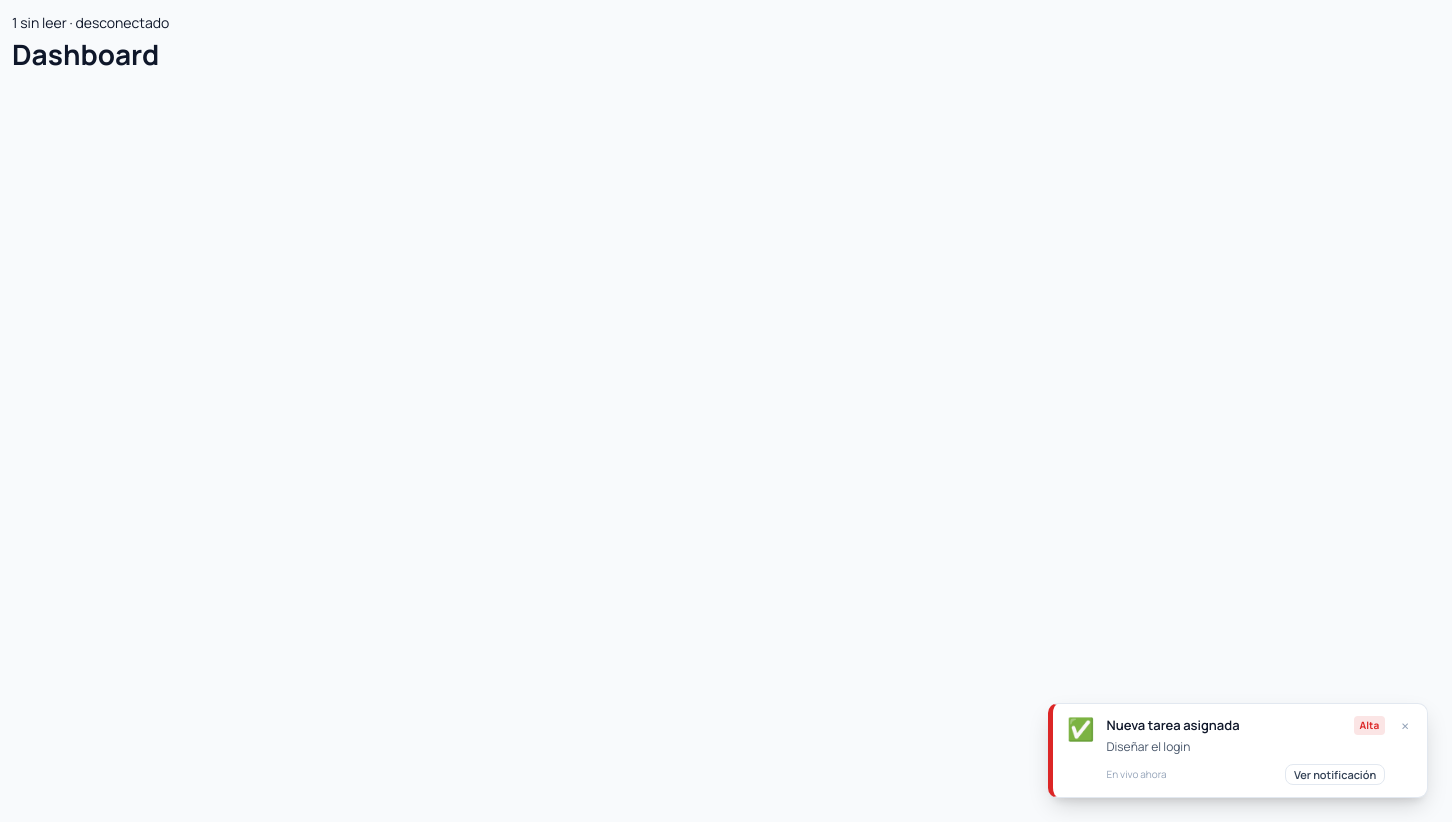
Test: notificaciones en tiempo real › should mark it as read and go to /notificaciones from "Ver notificación"
This screenshot has width=1452, height=822.
Click the button "Ver notificación": (1335, 774) [1285, 764, 1385, 785]
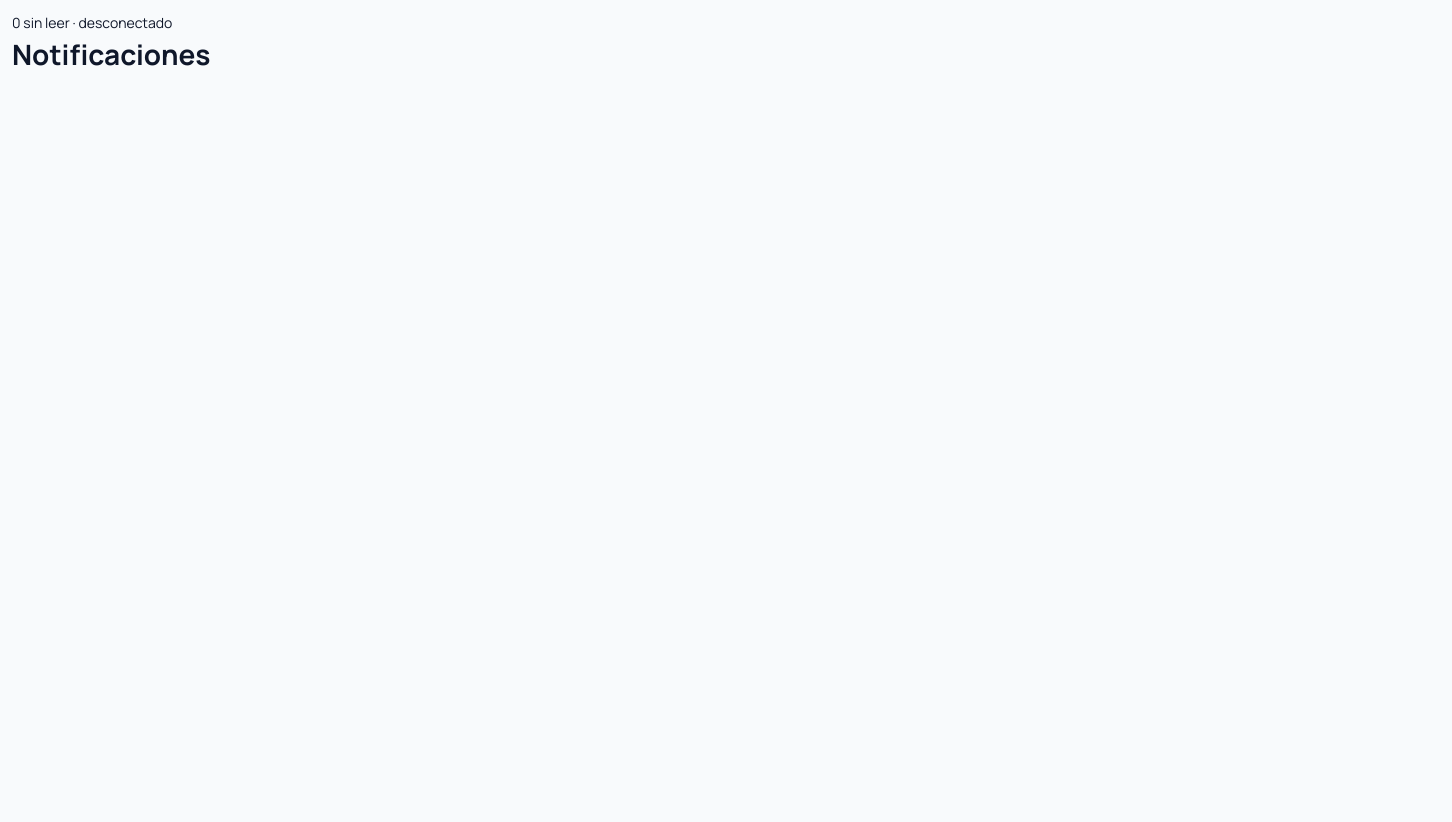
Expected: the heading "Notificaciones" is shown, [12, 35, 210, 73]
Expected: the text "Diseñar el login" is gone
